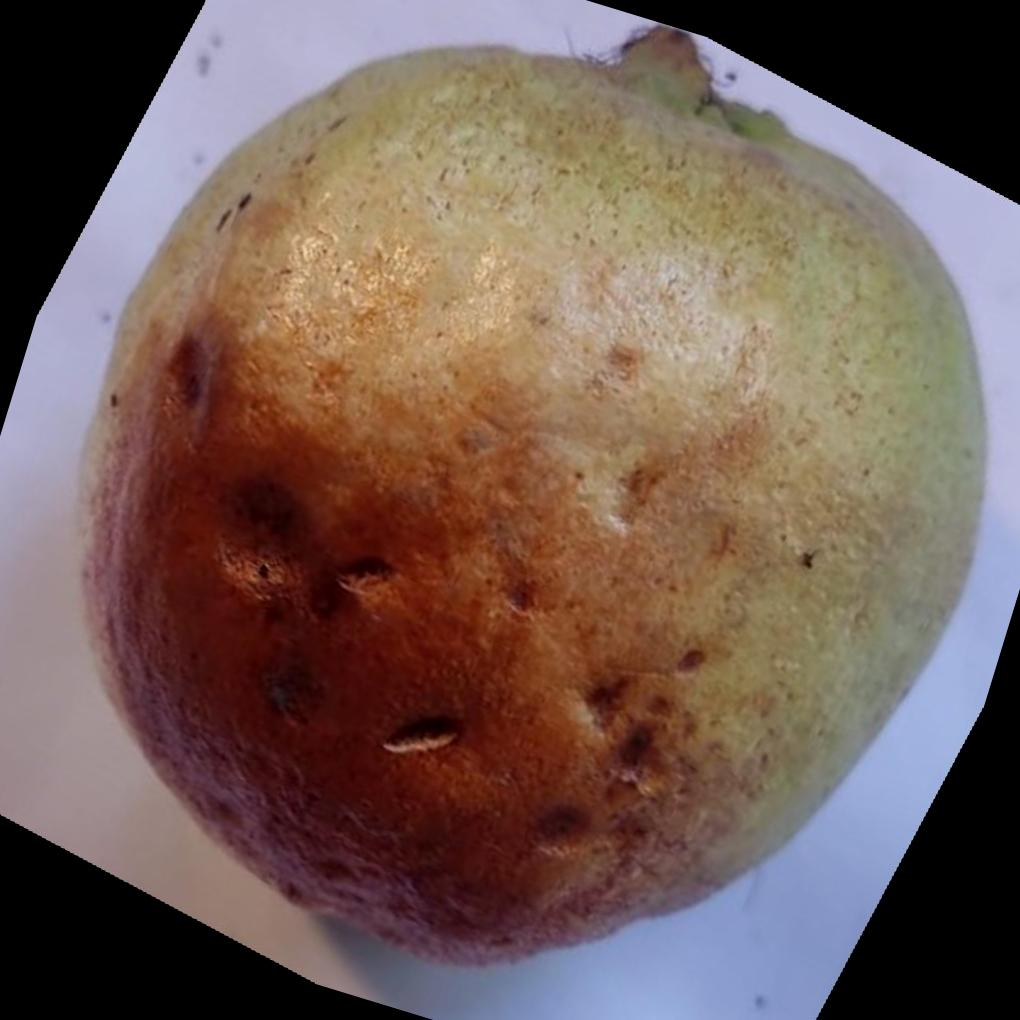FreshOrange: (70, 28, 988, 972), (71, 31, 990, 973)
